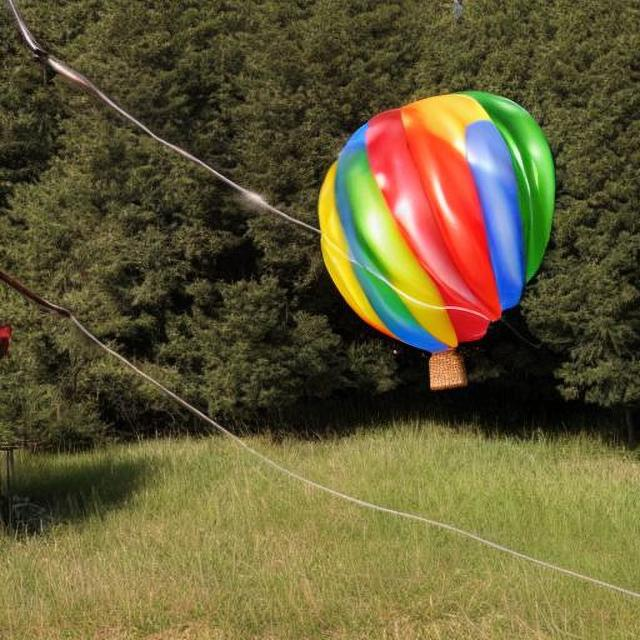balloon: (318, 88, 556, 354)
floating object: (4, 272, 640, 618), (14, 16, 335, 244)
